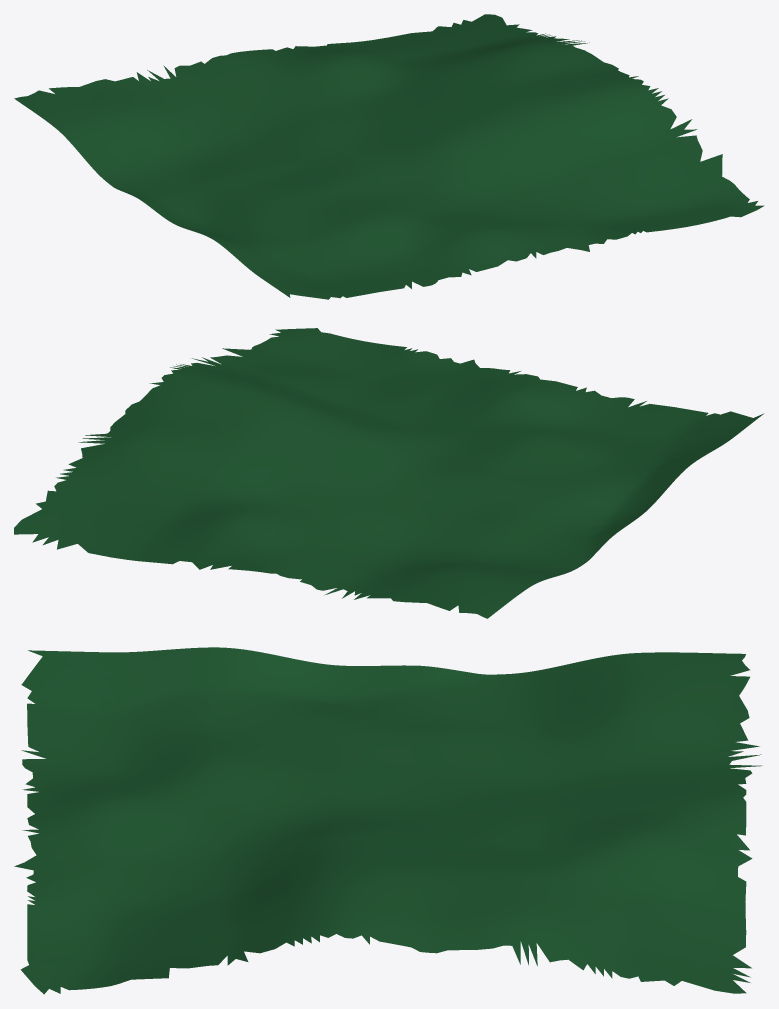
Rendered from payo_land_xm4_ym2.glb.
3 renders of one model, top to bottom at view 1: azimuth 30°, elevation 25°; view 2: azimuth 150°, elevation 25°; view 3: azimuth 270°, elevation 25°, orthographic. The views are drawn at different scales.
Parts seen in each view (by area): view 1: payo_land_xm4_ym2; view 2: payo_land_xm4_ym2; view 3: payo_land_xm4_ym2.
Part boxes in pixels (x1,y1,x2,y2): payo_land_xm4_ym2: (14,14,764,299); payo_land_xm4_ym2: (14,328,764,618); payo_land_xm4_ym2: (14,647,762,994).
Size of the model in its own units: 264 by 25.12 by 269.
